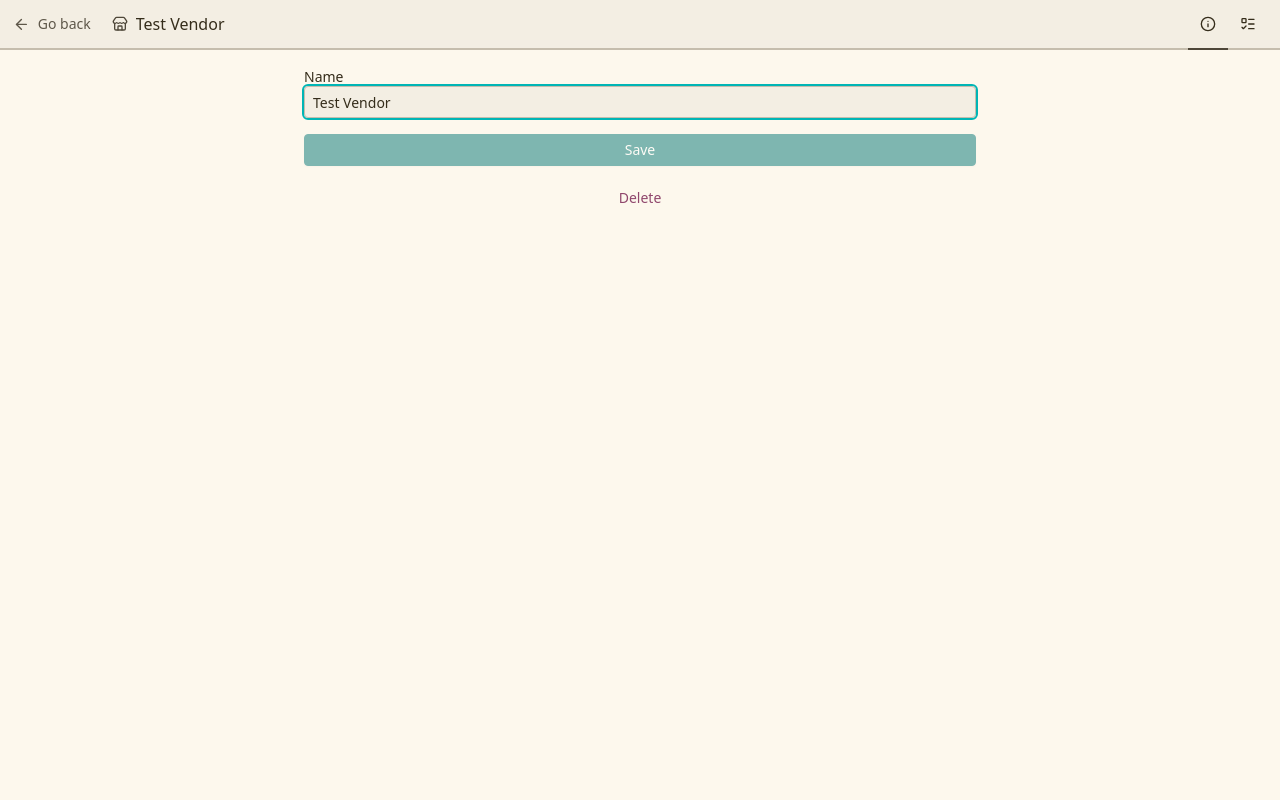
Test case: Vendor Detail - Info Tab › user can navigate back after saving vendor name
// When user changes vendor name
Replace the text in the field labelled "Name" with "Updated Vendor" at x=640, y=102, box x1=304 y1=86 x2=976 y2=118
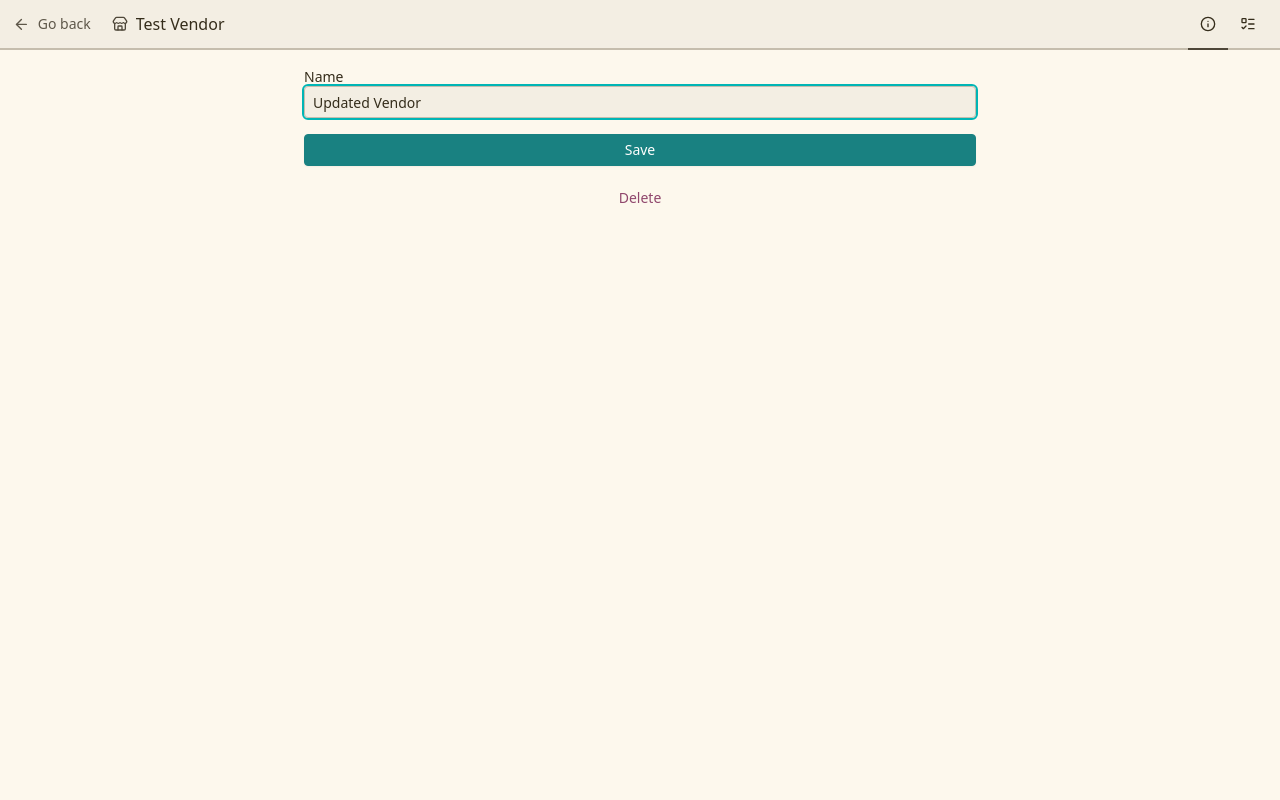
// And saves the form
Click the button "Save" at x=640, y=150, box x1=304 y1=134 x2=976 y2=166
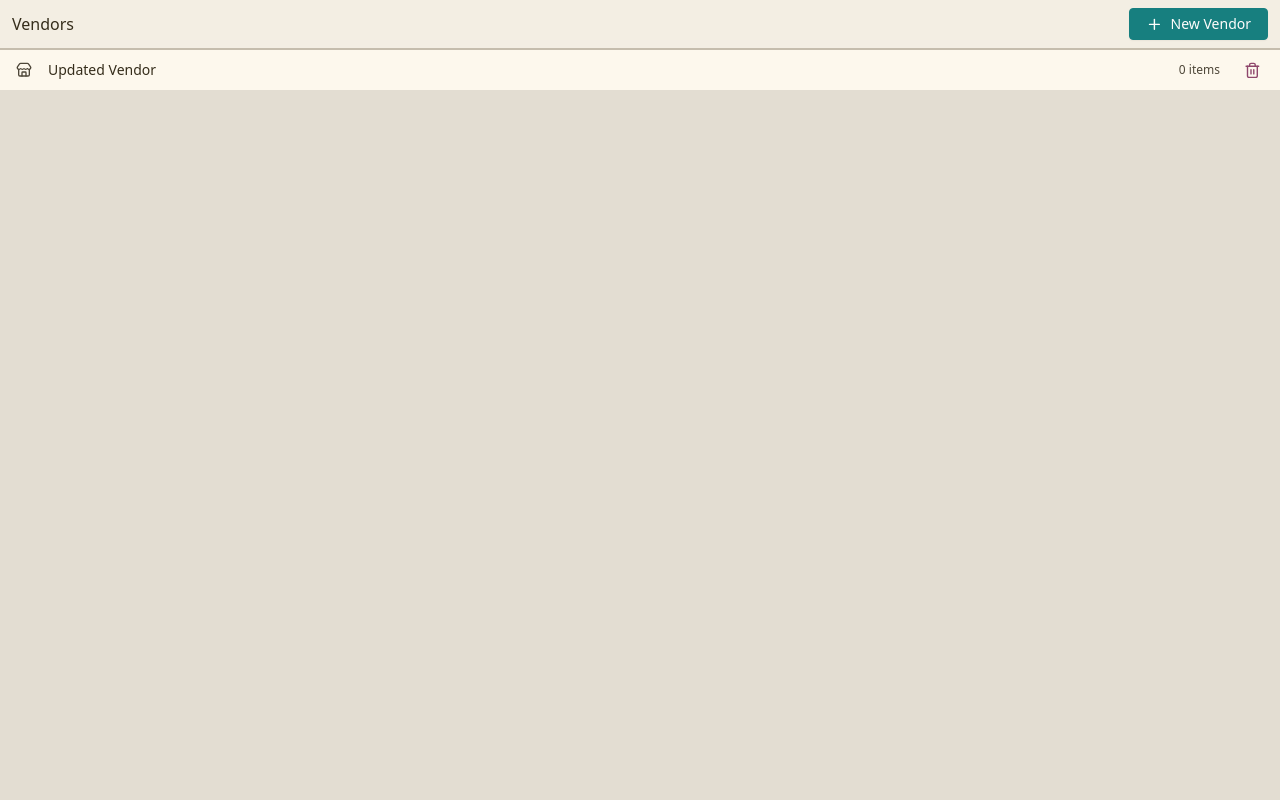
Now the heading "Vendors" is shown, box x1=12 y1=14 x2=74 y2=34
Now the button "New Vendor" is shown, box x1=1129 y1=8 x2=1268 y2=40
